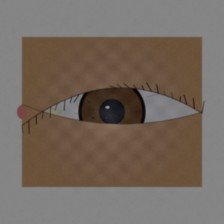pinguecula_lesion: (23, 91, 75, 133)
